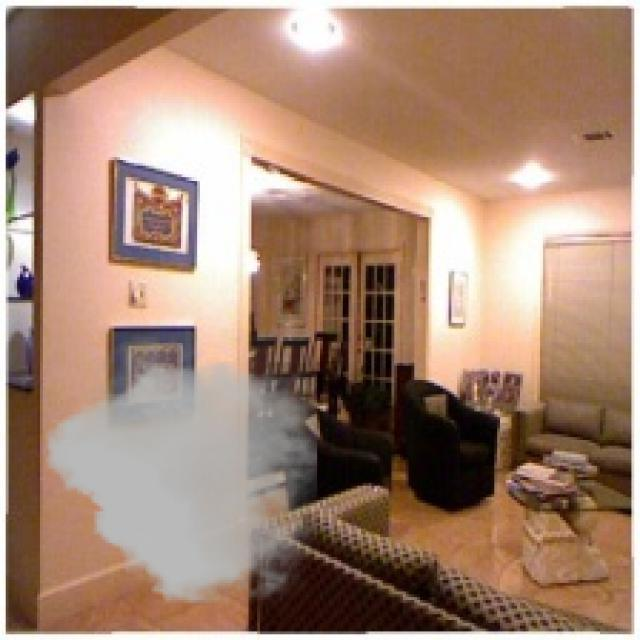Smoke: (45, 328, 318, 608)
